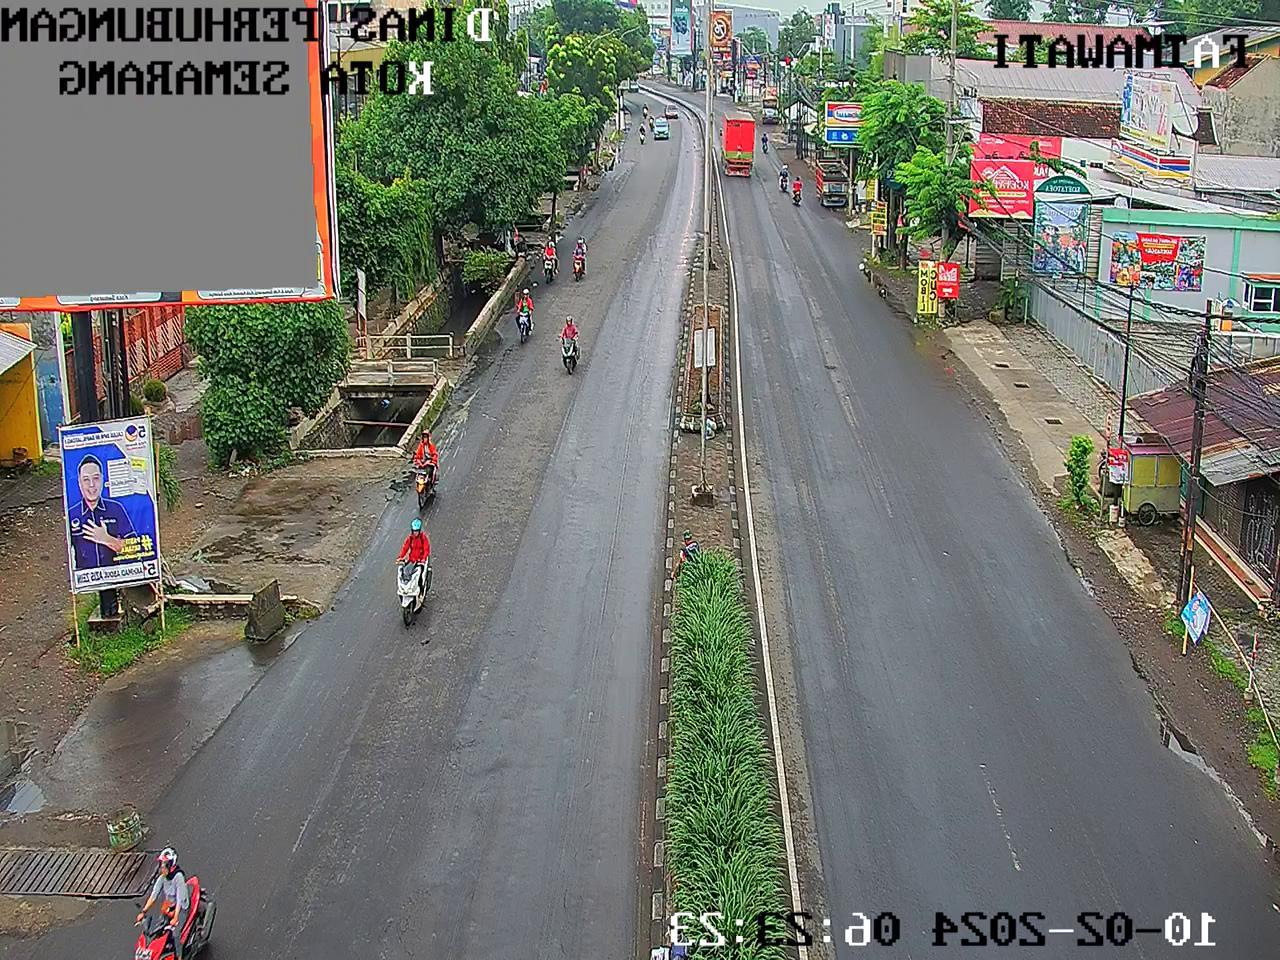car: (652, 100, 678, 149), (605, 74, 646, 105), (659, 87, 695, 121)
motorcycle: (106, 826, 237, 960), (378, 410, 470, 562), (351, 522, 471, 627), (482, 279, 553, 377), (538, 315, 591, 393), (568, 209, 623, 279), (541, 230, 571, 269), (637, 97, 656, 127), (631, 124, 645, 149)
